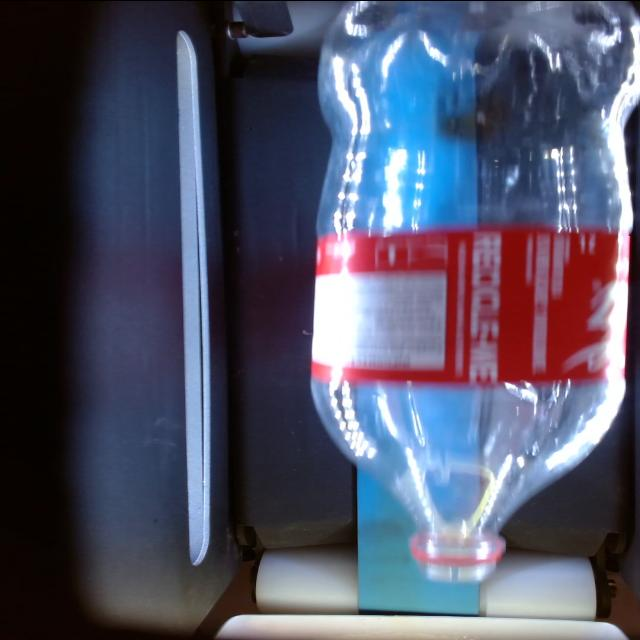bottom: (318, 0, 637, 235)
label: (313, 226, 618, 384)
neck: (311, 379, 622, 581)
